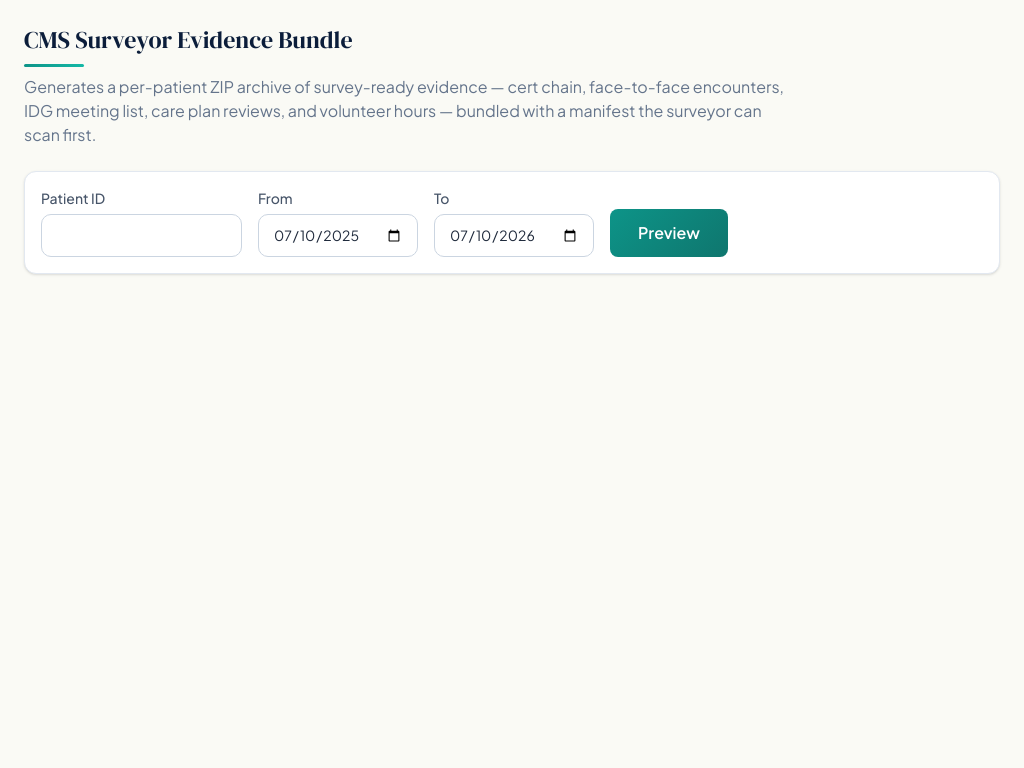
Test case: SurveyorBundlePage › previews the manifest after entering a patient
This screenshot has width=1024, height=768.
In the number field labelled "Patient ID": (142, 236) [41,214,242,257], type "100"
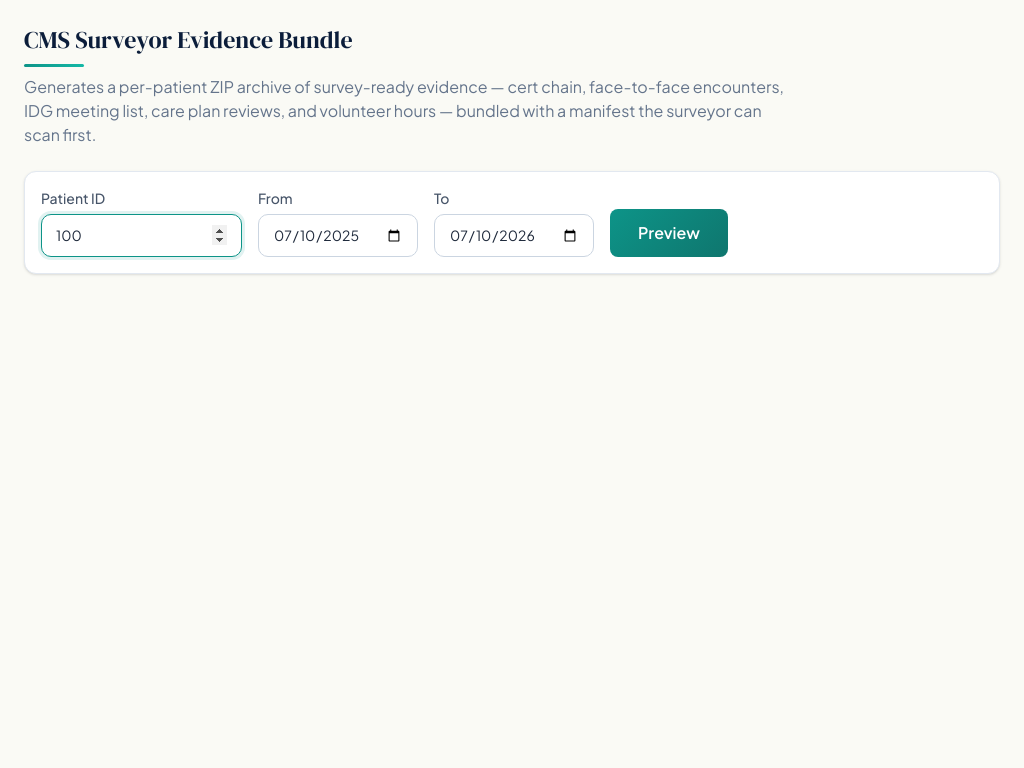
Click the button "Preview": (669, 233) [610,209,728,257]
(page scrolled)
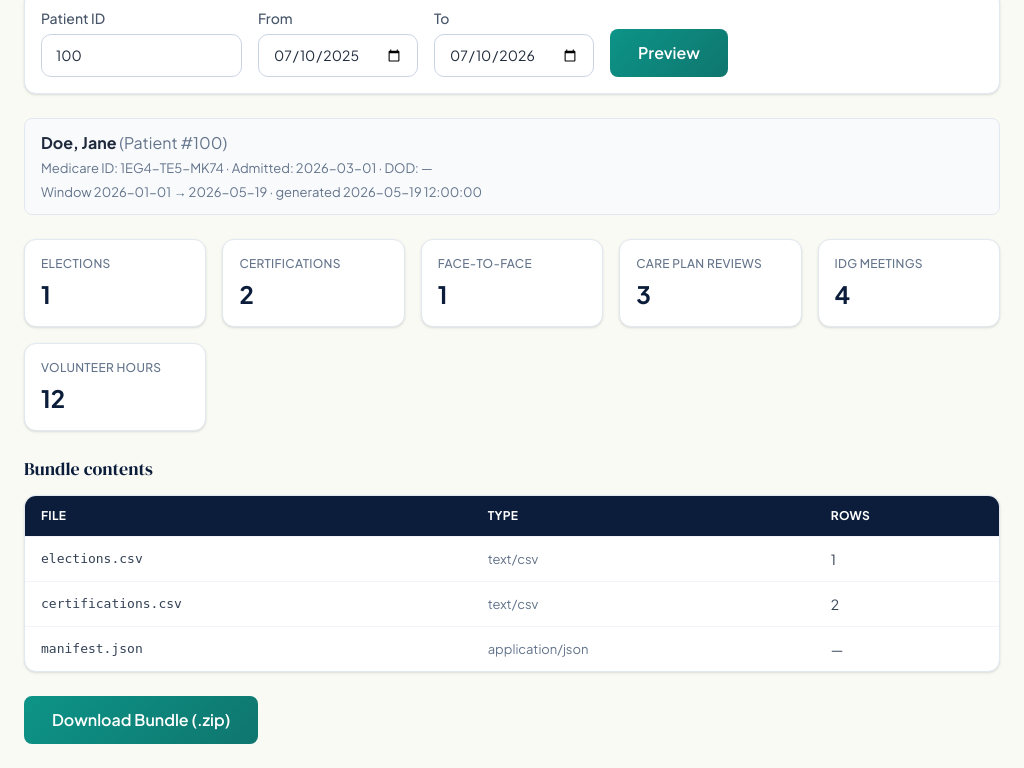
Result: the text "Doe, Jane" is shown at [41,132,116,153]
Result: the text "Medicare ID: 1EG4-TE5-MK74 · Admitted: 2026-03-01 · DOD: —" is shown at [41,160,433,176]
Result: the text "Elections" is shown at [41,256,111,271]
